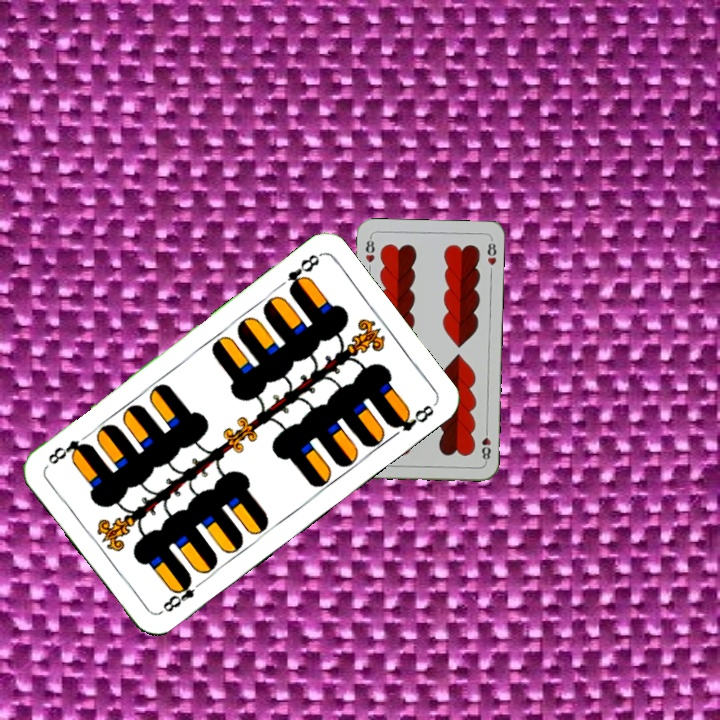E8: (156, 573, 207, 616), (283, 250, 323, 296)
H8: (478, 424, 493, 465), (362, 233, 377, 265)
